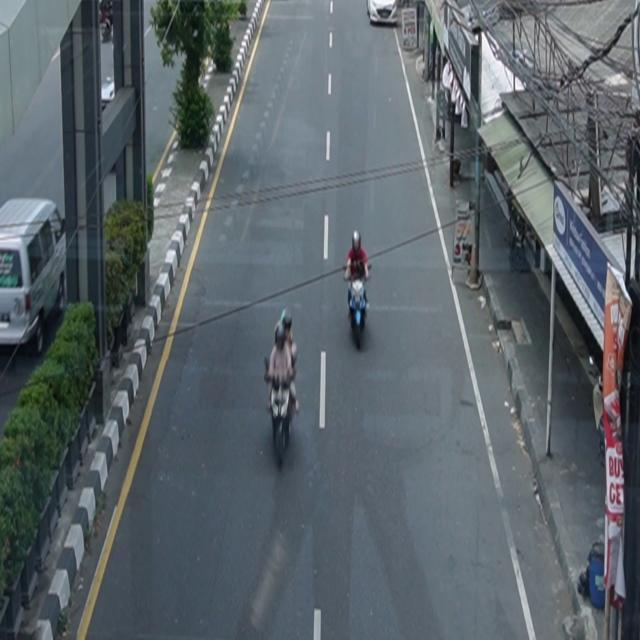car: (367, 1, 398, 26)
truck: (1, 196, 68, 356)
